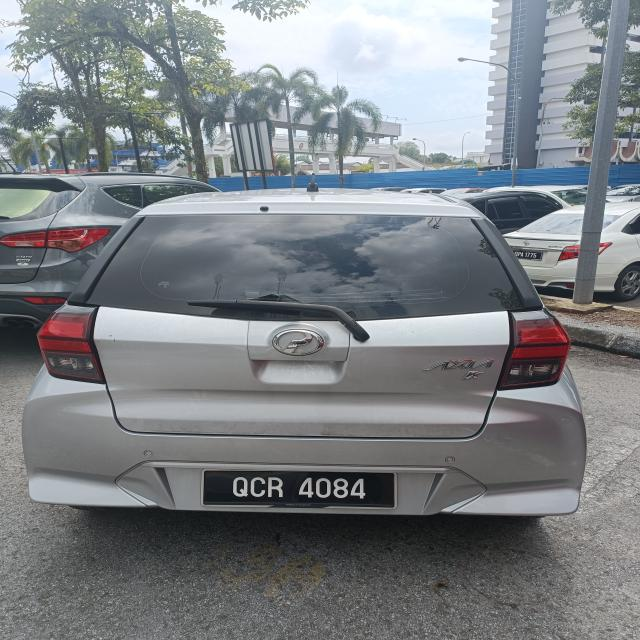PeroduaAxia: (21, 182, 588, 518)
